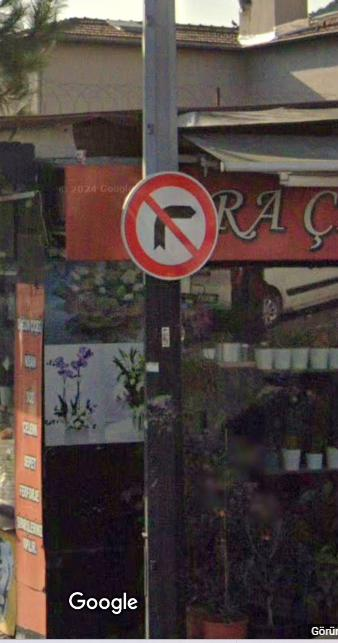rightturnsareforbidden: (122, 170, 216, 279)
